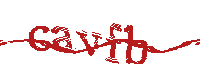a: (51, 25, 74, 53)
b: (124, 25, 150, 65)
c: (29, 23, 51, 52)
f: (103, 20, 124, 66)
v: (76, 28, 103, 57)
